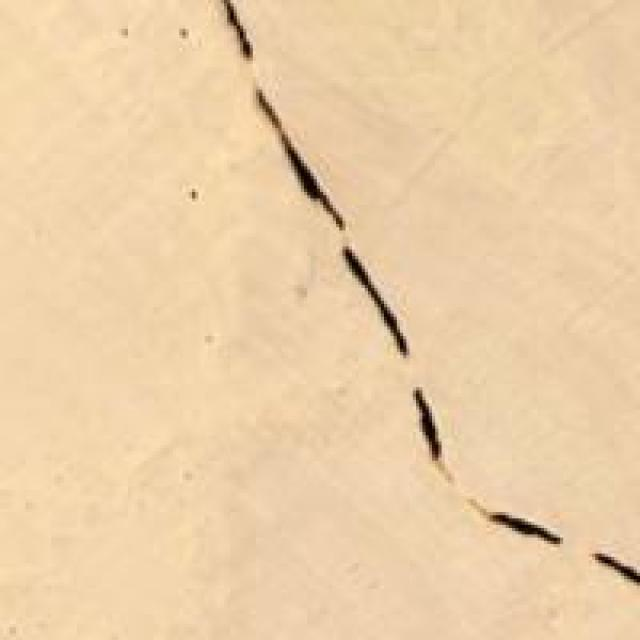Crack: (221, 0, 637, 611)
